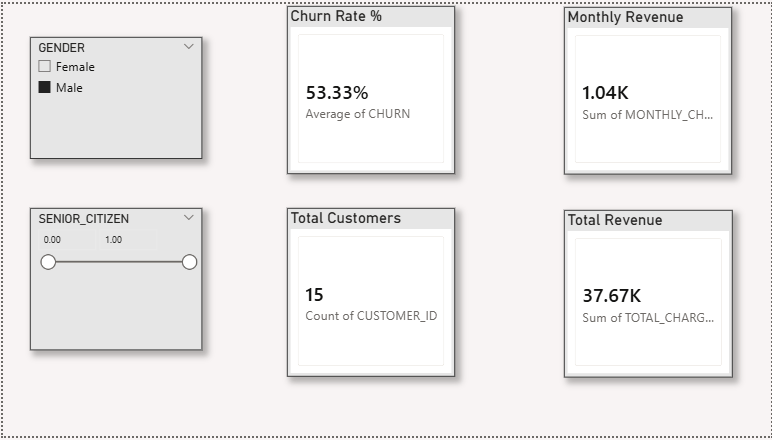

The page's visual inventory and layout, read from the dashboard file:
{"tool":"powerbi","page":{"name":"Executive Summary","canvas":[1280,720],"ordinal":0},"visuals":[{"type":"cardVisual","title":"Total Customers","fields":{"Data":["CountNonNull(CUSTOMER_CHURN.CUSTOMER_ID)"]},"box":[472.9,340,280,281.4],"z":0},{"type":"cardVisual","title":"Monthly Revenue","fields":{"Data":["Sum(CUSTOMER_CHURN.MONTHLY_CHARGES)"]},"box":[935.7,4.3,280,278.6],"z":1000},{"type":"cardVisual","title":"Total Revenue","fields":{"Data":["Sum(CUSTOMER_CHURN.TOTAL_CHARGES)"]},"box":[934.3,342.9,281.4,278.6],"z":2000},{"type":"cardVisual","title":"Churn Rate %","fields":{"Data":["Avg(CUSTOMER_CHURN.CHURN)"]},"box":[472.9,2.9,280,280],"z":3000},{"type":"slicer","fields":{"Values":["CUSTOMER_CHURN.GENDER"]},"box":[45.7,54.3,287.1,202.9],"z":4000},{"type":"slicer","fields":{"Values":["CUSTOMER_CHURN.SENIOR_CITIZEN"]},"box":[45.7,340,287.1,237.1],"z":5000}]}

Visuals, with their boxes in screenshot pixels (x1, y1, x2, y2), scaled from the page's 1280x720 canvas onto the 772x440 screenshot:
"Total Customers" cardVisual: detection(285, 208, 454, 380)
"Monthly Revenue" cardVisual: detection(564, 3, 733, 173)
"Total Revenue" cardVisual: detection(563, 210, 733, 380)
"Churn Rate %" cardVisual: detection(285, 2, 454, 173)
slicer - CUSTOMER_CHURN.GENDER: detection(28, 33, 201, 157)
slicer - CUSTOMER_CHURN.SENIOR_CITIZEN: detection(28, 208, 201, 353)
